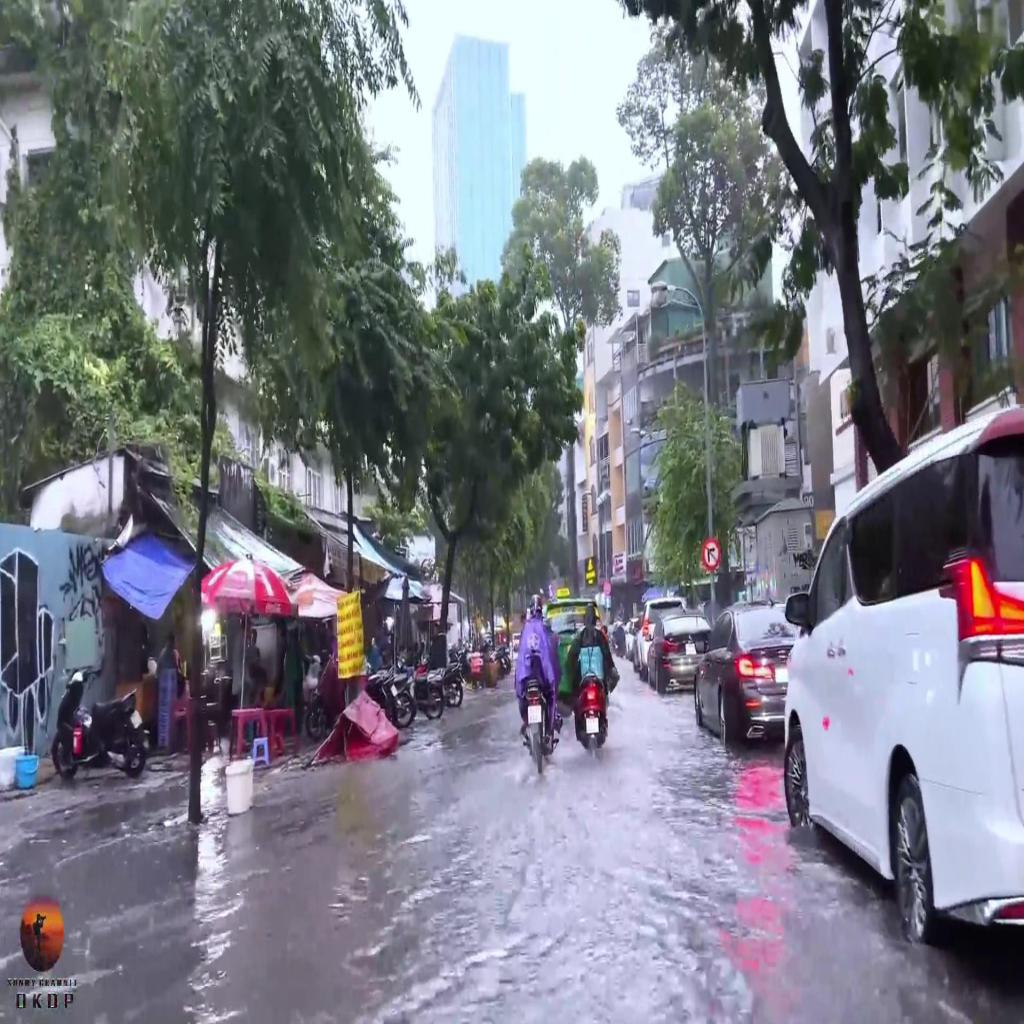cam_re_phai: (702, 538, 720, 570)
